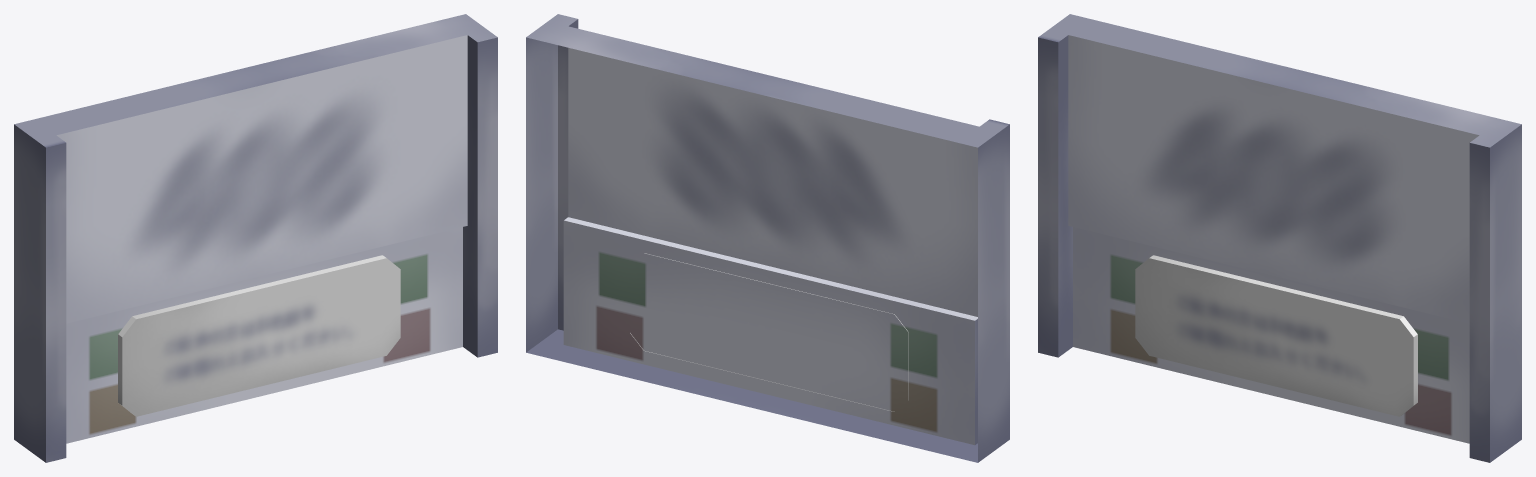
Rendered from BgMD_NamePlate_01.fbx.
3 views of the same model, side by side, from view 1: azimuth 30°, elevation 25°; view 2: azimuth 150°, elevation 25°; view 3: azimuth 330°, elevation 25° (orthographic).
Visible parts, largest first — view 1: BgMD_NamePlate_01; view 2: BgMD_NamePlate_01; view 3: BgMD_NamePlate_01.
Part boxes in pixels (x1,y1,x2,y2): BgMD_NamePlate_01: (14,14,497,462); BgMD_NamePlate_01: (526,14,1009,462); BgMD_NamePlate_01: (1038,14,1521,462).
Size of the model in its own units: 15 by 10 by 1.84.
Materials: 1 (1 with a texture image).
